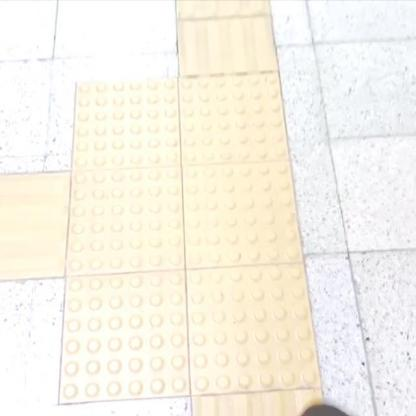podotacti: (44, 54, 331, 415)
